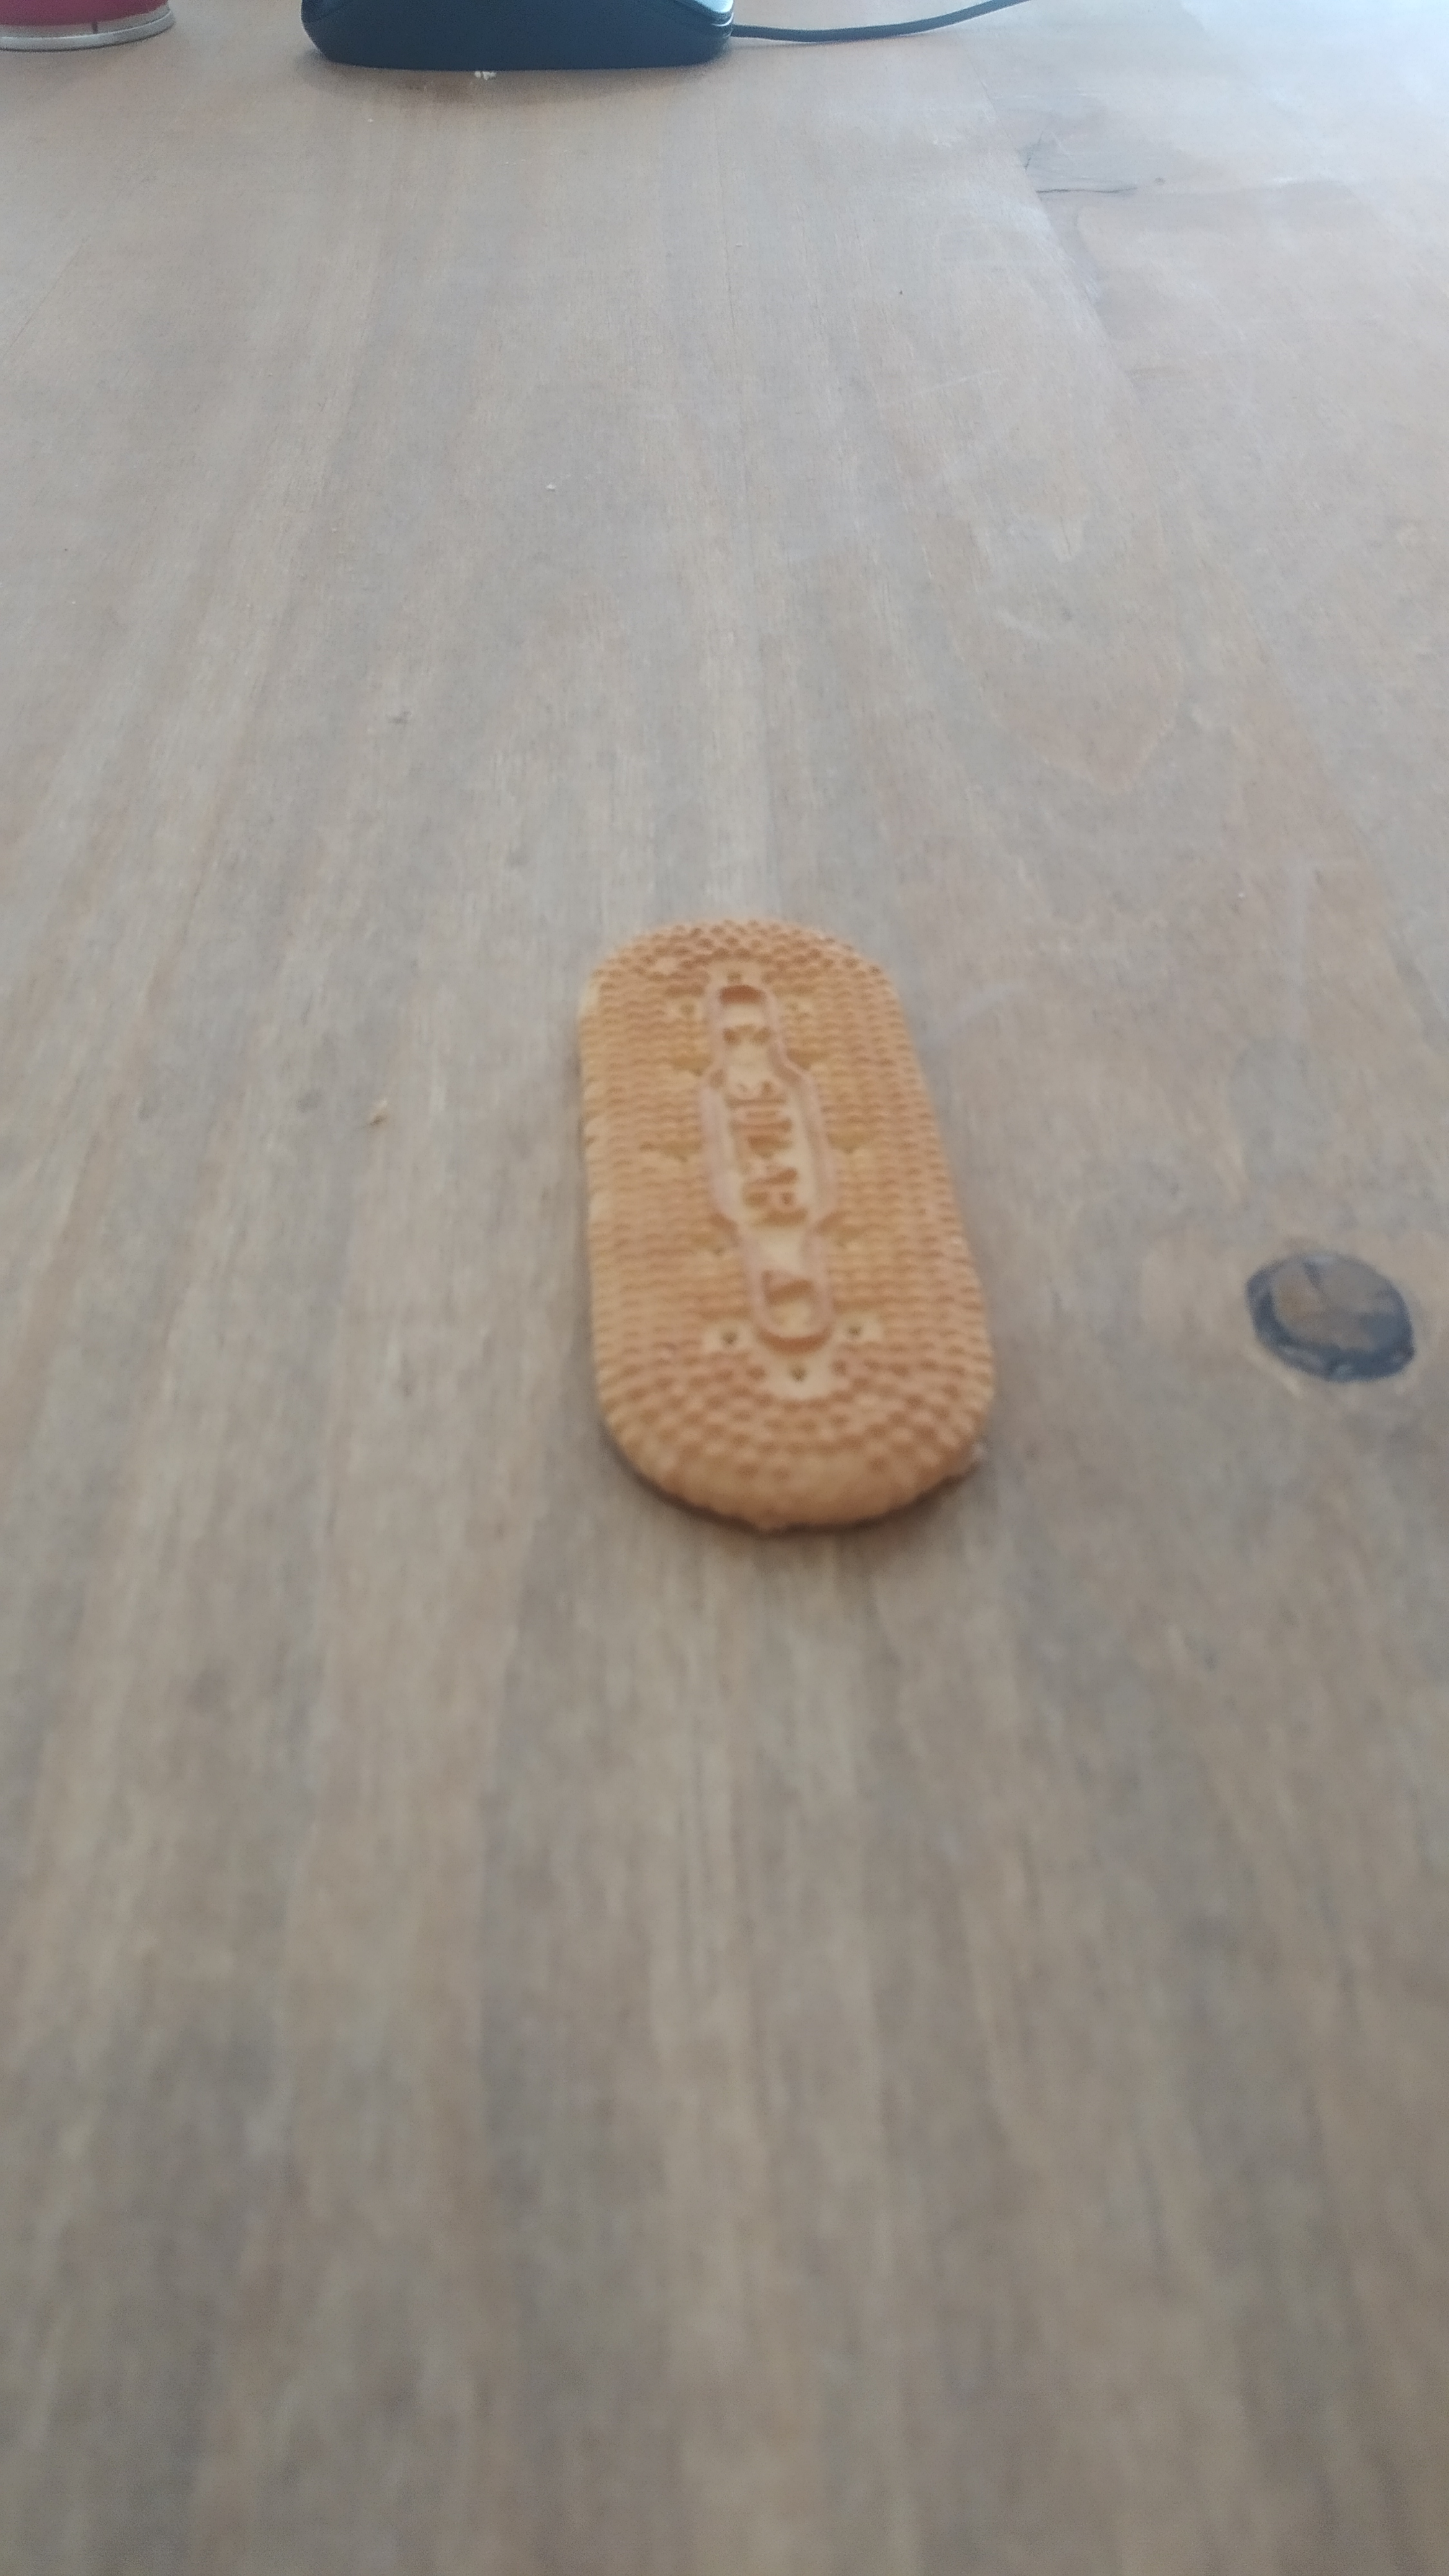solar: (575, 918, 998, 1530)
